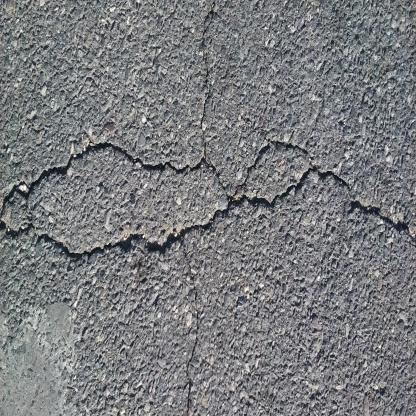Cracks: (0, 135, 415, 270), (193, 0, 223, 163), (178, 227, 202, 416)
